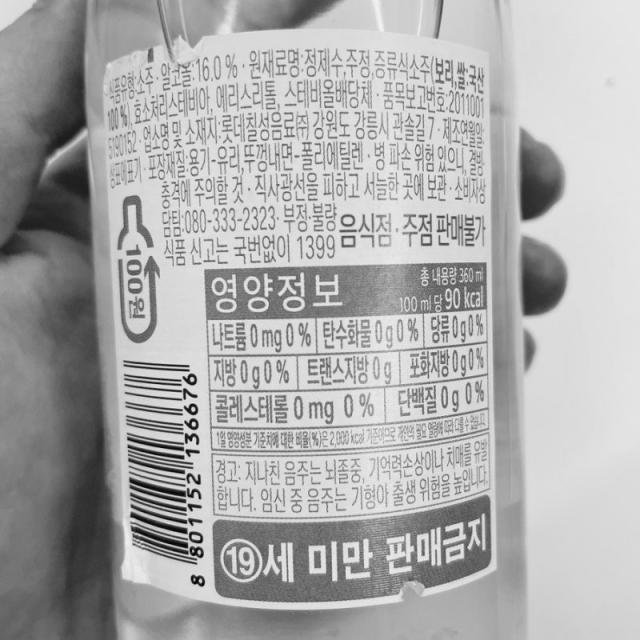Nutrition Label: (202, 258, 501, 528)
